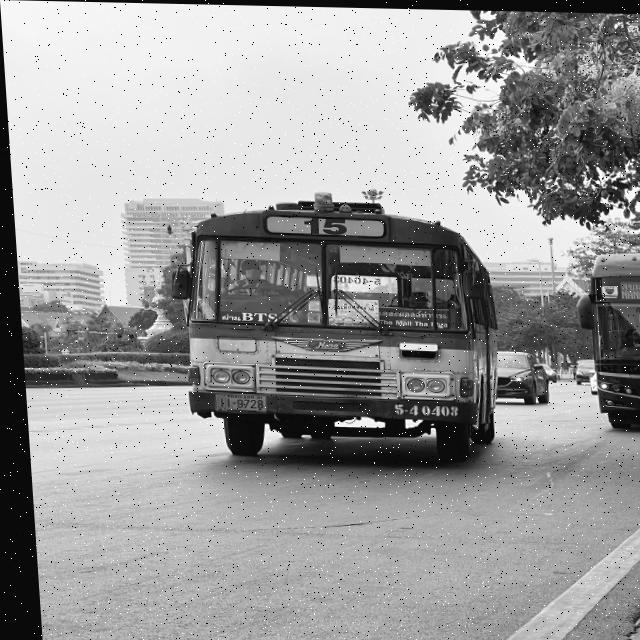BMTA-bus: (171, 191, 502, 464)
Bus-Line-Number: (290, 212, 358, 236)
Destination-Sign-Extra-Bus: (367, 303, 449, 328)
TSB-Bus: (573, 249, 640, 430)
